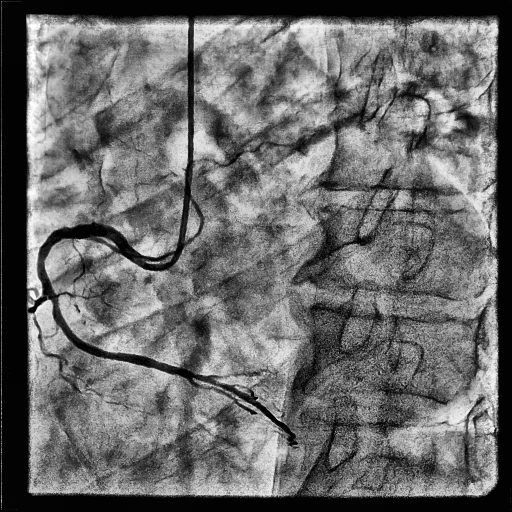pda: (187, 371, 296, 440)
rca: (37, 222, 187, 378)
